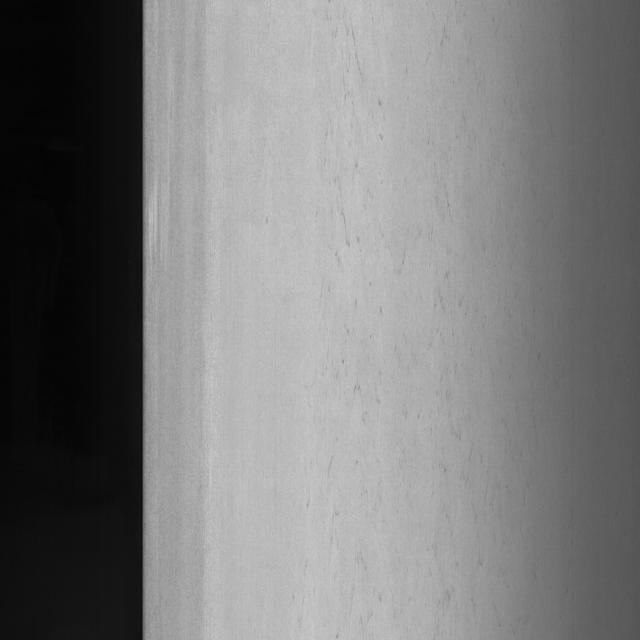inclusion: (318, 15, 422, 489)
